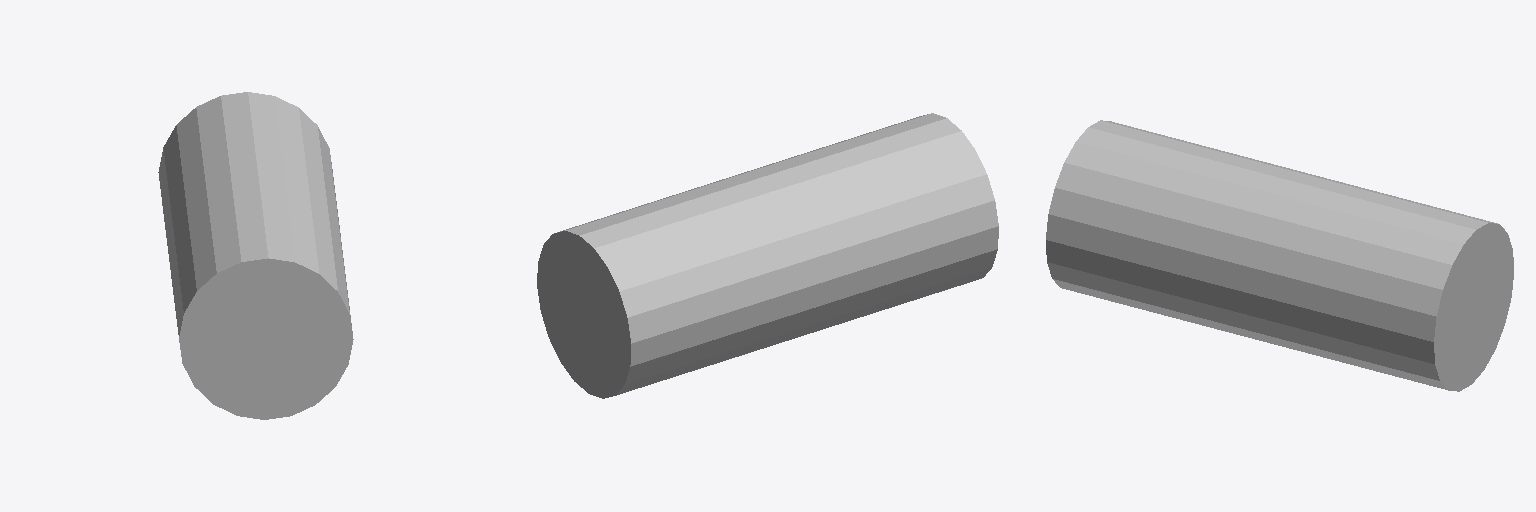
File: kol3.obj
3 views of the same model, side by side, from view 1: azimuth 30°, elevation 25°; view 2: azimuth 150°, elevation 25°; view 3: azimuth 270°, elevation 25° (orthographic).
Parts seen in each view (by area): view 1: pCylinder5 group42; view 2: pCylinder5 group42; view 3: pCylinder5 group42.
Part boxes in pixels (bbox=[...]): pCylinder5 group42: bbox=[158, 92, 353, 419]; pCylinder5 group42: bbox=[537, 113, 998, 398]; pCylinder5 group42: bbox=[1046, 120, 1513, 391].
Size of the model in its own units: 16.27 by 8.89 by 21.43.